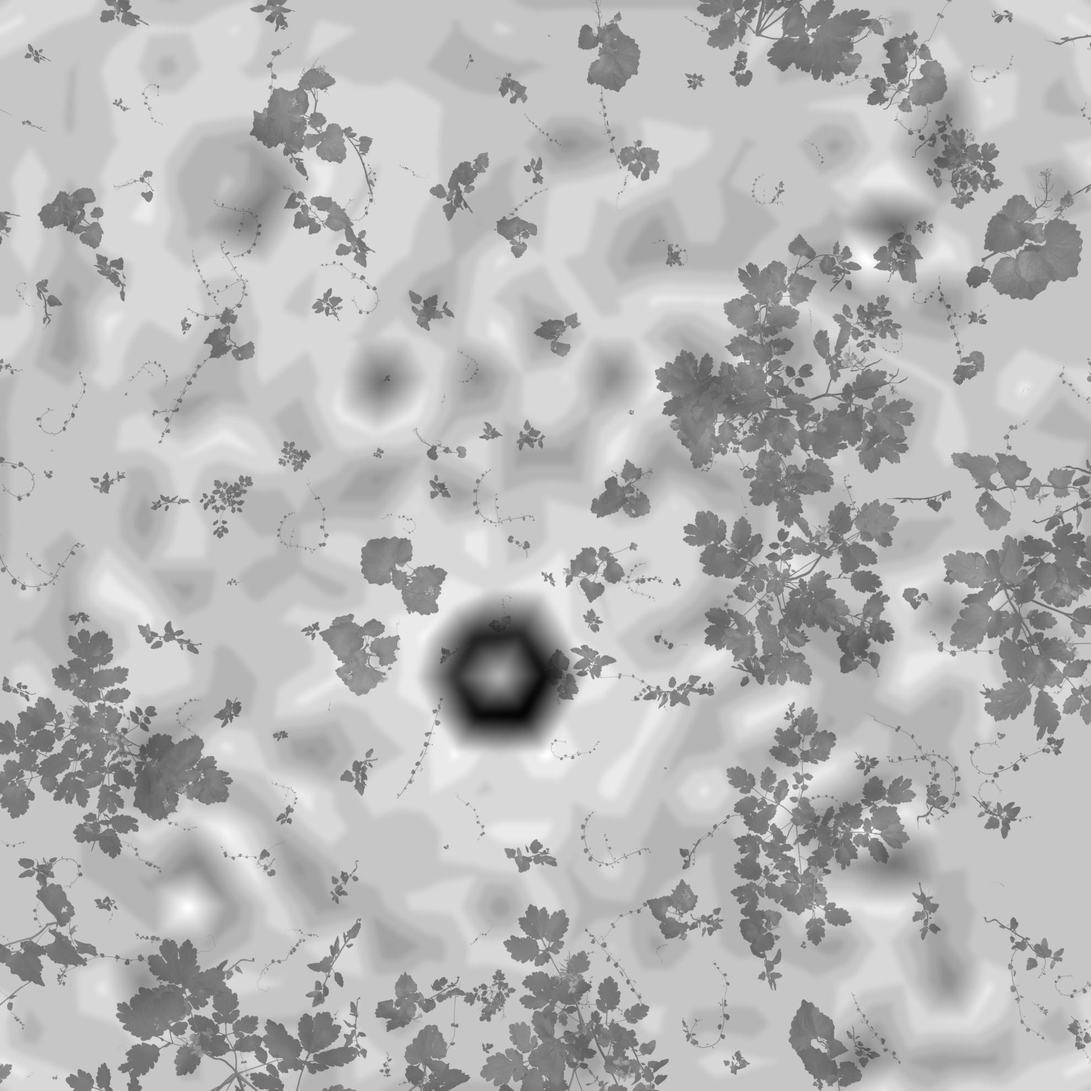landmine: (422, 597, 569, 755), (169, 131, 284, 256)
